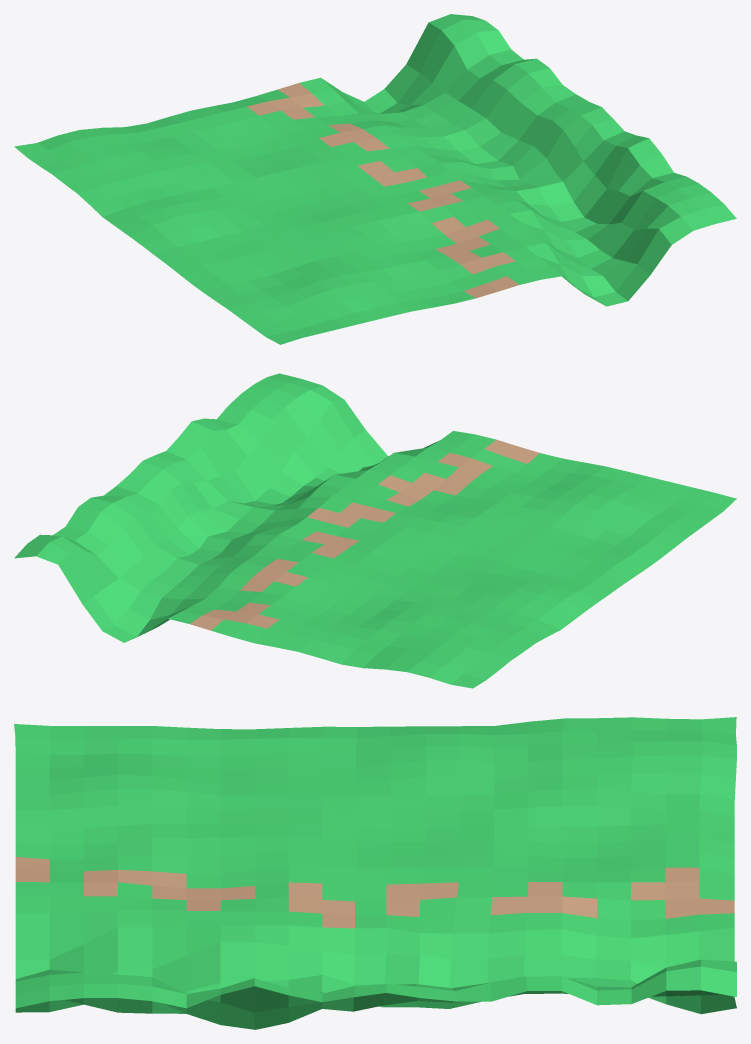
File: Land6.fbx
3 renders of one model, top to bottom at view 1: azimuth 30°, elevation 25°; view 2: azimuth 150°, elevation 25°; view 3: azimuth 270°, elevation 25°, orthographic. The views are drawn at different scales.
Visible parts, largest first — view 1: PlatformCenter.005; view 2: PlatformCenter.005; view 3: PlatformCenter.005.
Part boxes in pixels (x1,y1,x2,y2): PlatformCenter.005: (14,14,736,344); PlatformCenter.005: (14,373,736,688); PlatformCenter.005: (14,717,736,1029).
Size of the model in its own units: 3521 by 559 by 3523.
